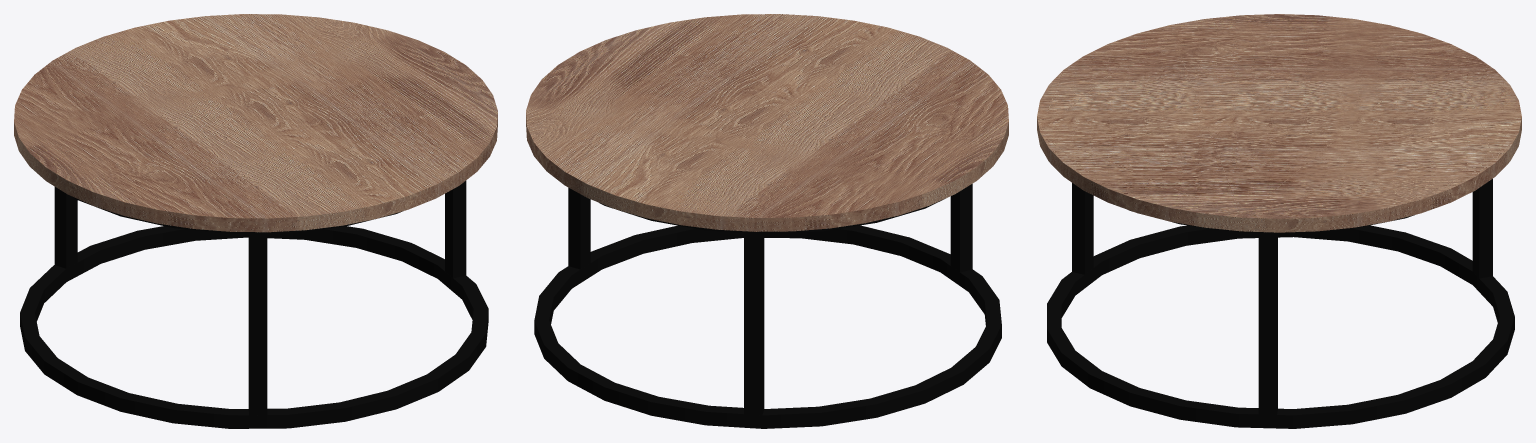
The model's file is Round table 1.FBX.
3 views of the same model, side by side, from view 1: azimuth 30°, elevation 25°; view 2: azimuth 150°, elevation 25°; view 3: azimuth 270°, elevation 25° (orthographic).
Visible parts, largest first — view 1: round table 1; view 2: round table 1; view 3: round table 1.
Part boxes in pixels (x1,y1,x2,y2): round table 1: (14,14,497,428); round table 1: (526,14,1008,428); round table 1: (1037,14,1521,428).
Bounding box in the file's own units: 102 × 49.52 × 102.
2 materials, 1 textured.
